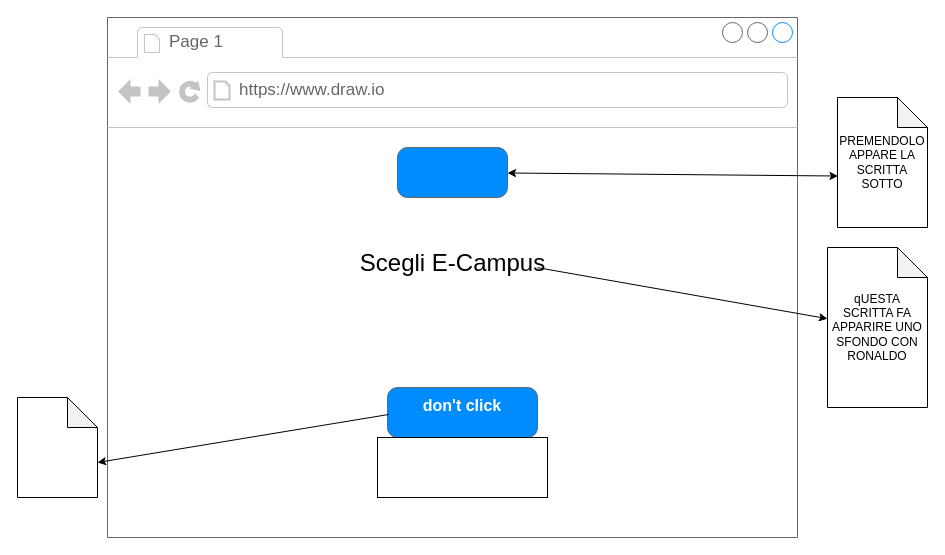
The diagram is 945 pixels wide and 555 high, and some of its shapes have lost their labels. The box of each missing label's shape, as (x1, y1, x2, y2) in pixels:
CLICCANDO SUL BOTTONE FA APPARIRE LA SCRITTA SOTTO: (16, 396, 98, 498)
click: (396, 146, 508, 198)
Forza Juveeeeeeeeeeeeeeee: (376, 436, 548, 498)
